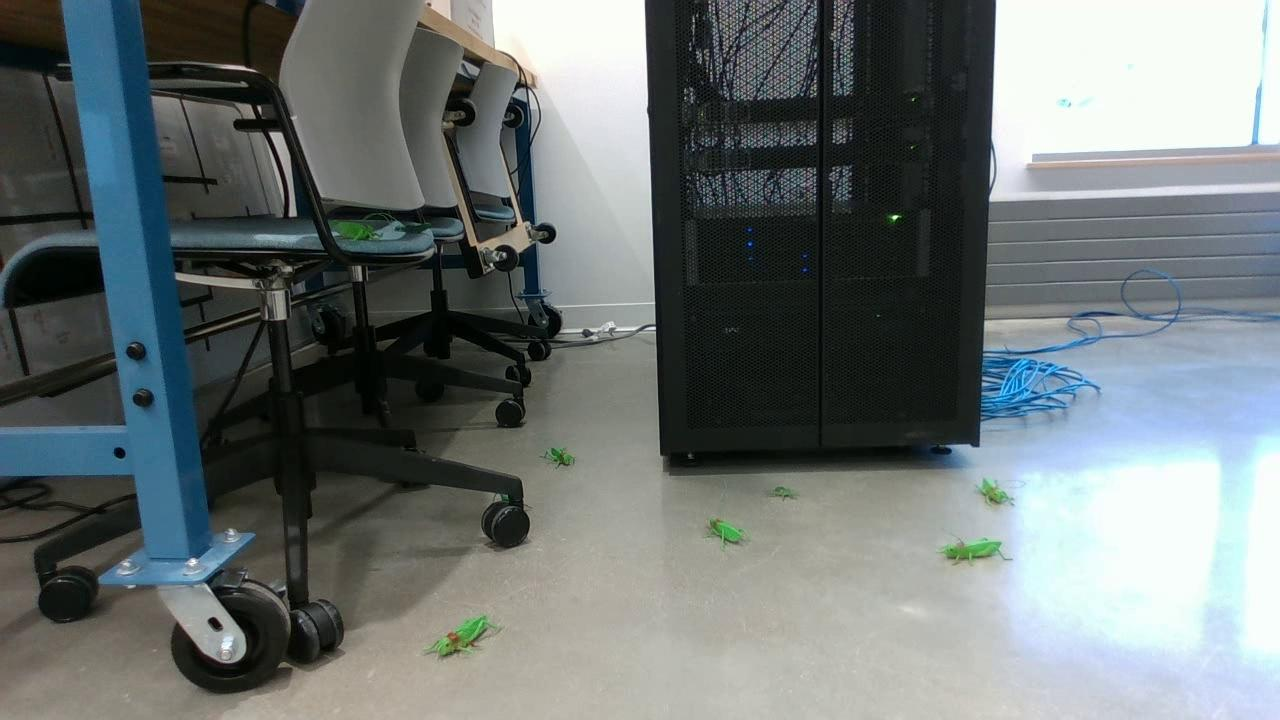grasshopper: (418, 617, 500, 661), (940, 535, 1011, 560), (702, 515, 748, 552), (975, 475, 1013, 508), (329, 220, 383, 242), (542, 446, 575, 469)
